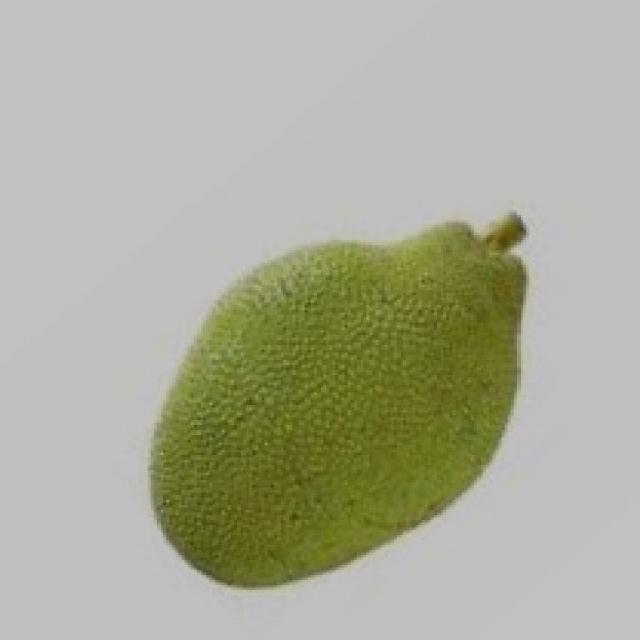Fruit: (129, 212, 551, 592)
